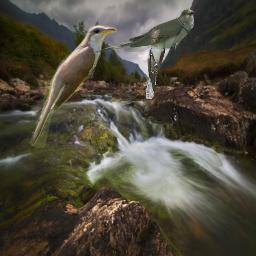Cuckoo: (28, 25, 117, 148), (92, 8, 194, 55), (145, 34, 169, 99)
